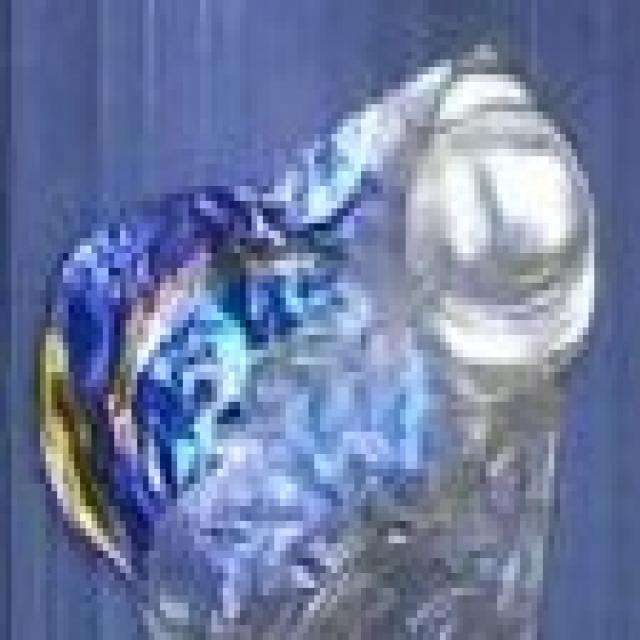litter: (14, 12, 633, 640)
